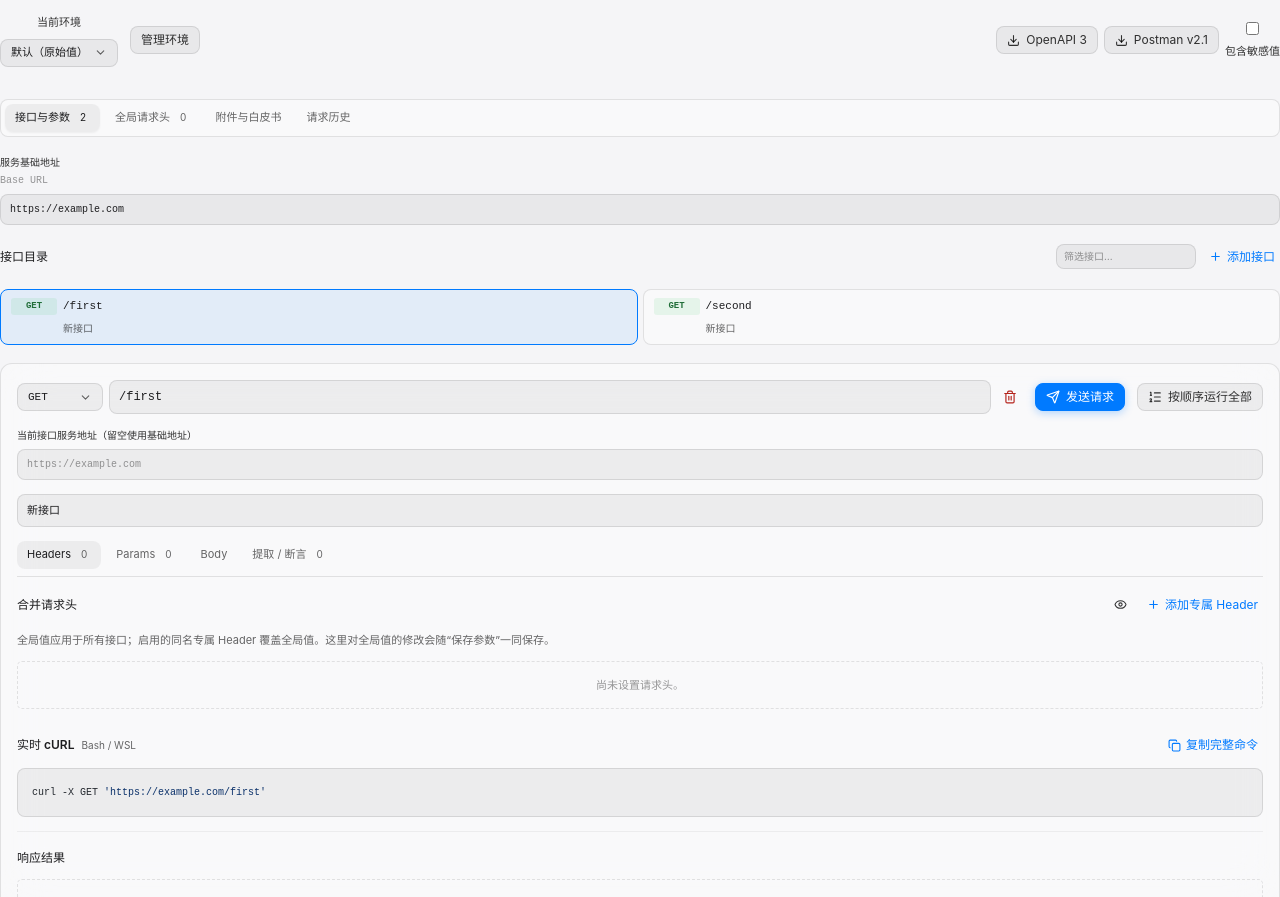
Test: manual cancellation aborts the fetch and ignores a late response
Click the button "发送请求" at (1080, 397), box top-left (1035, 383), bottom-right (1125, 411)
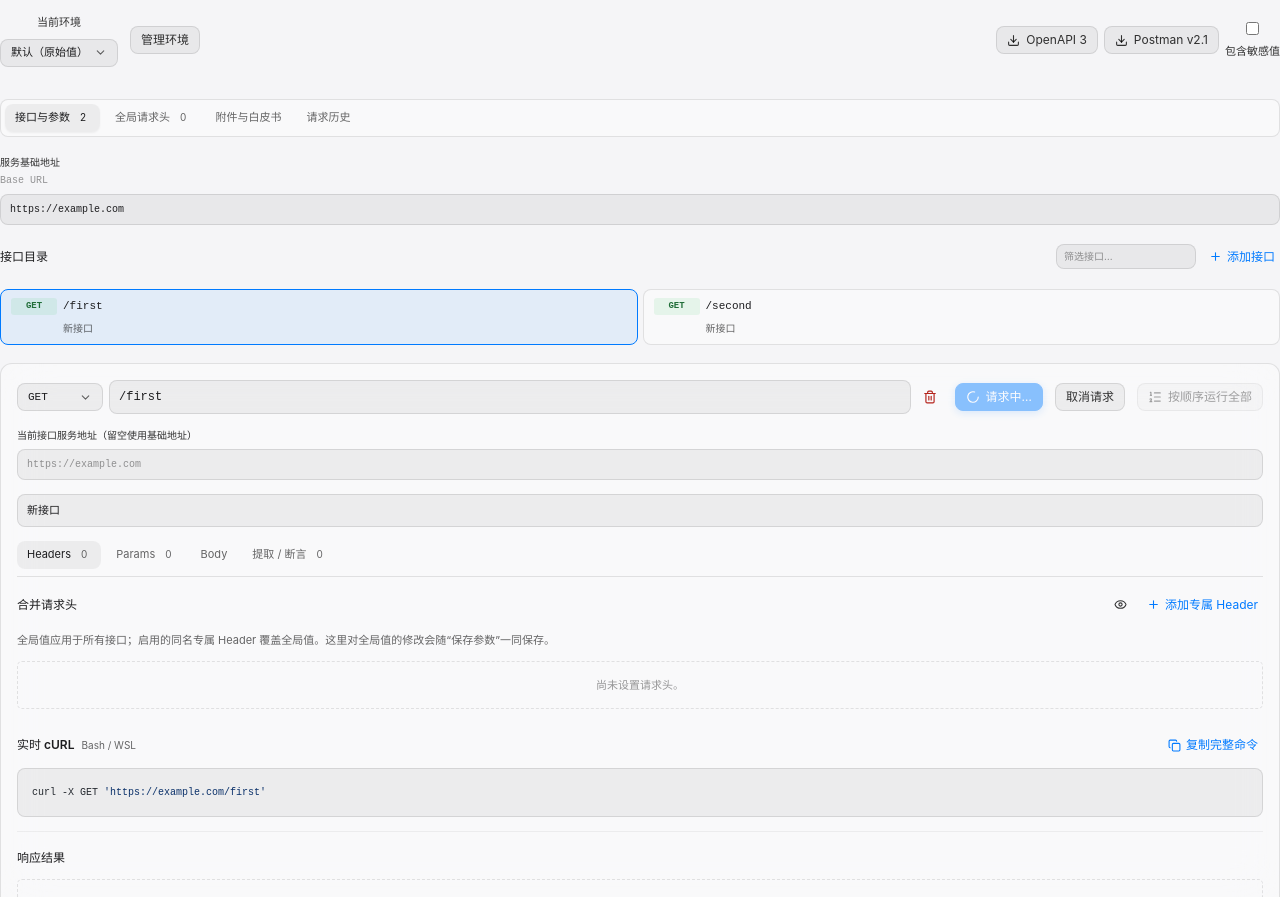
Click the button "取消请求" at (1090, 397), box top-left (1055, 383), bottom-right (1125, 411)
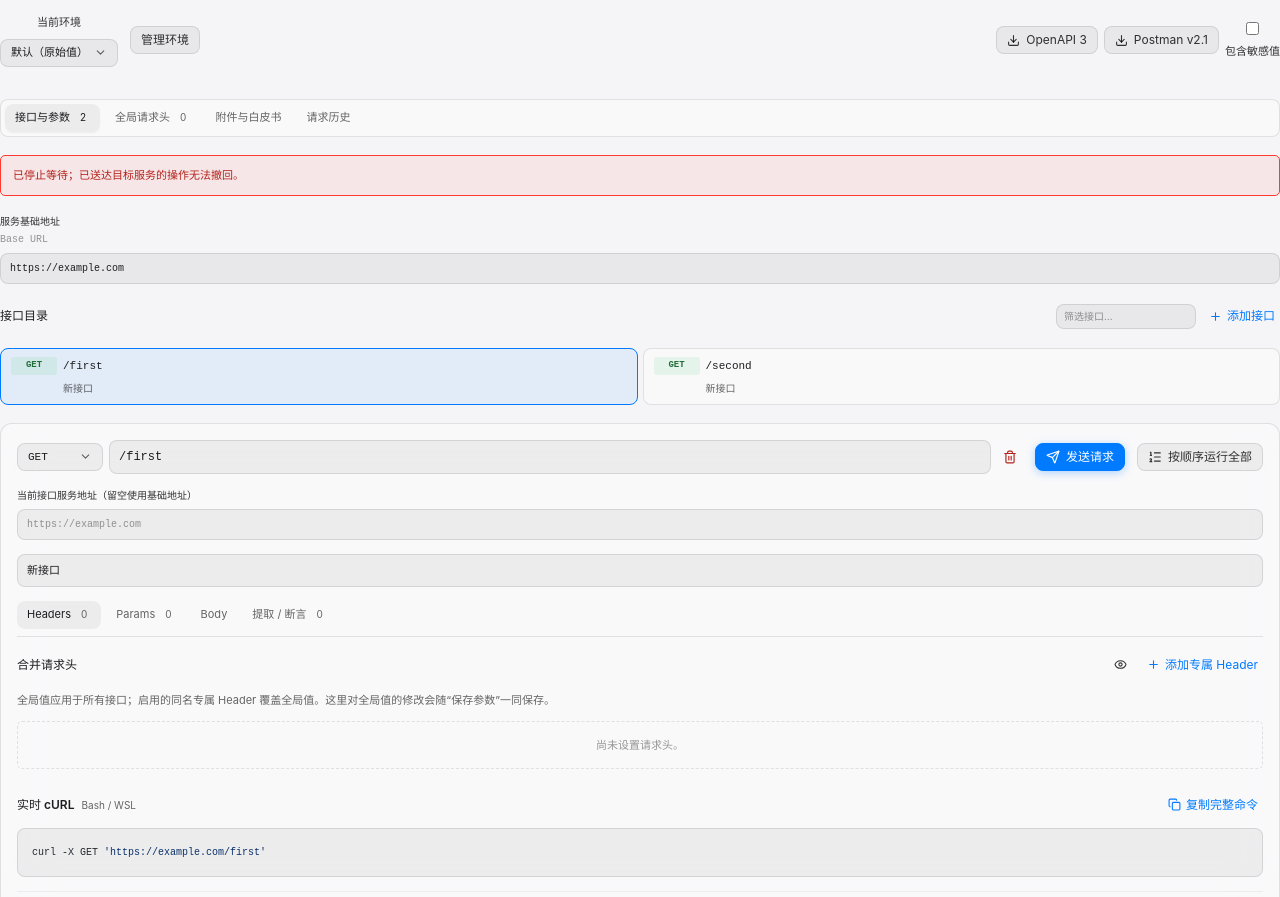
Expected: the button "发送请求" is enabled, top-left (1035, 443), bottom-right (1125, 471)
